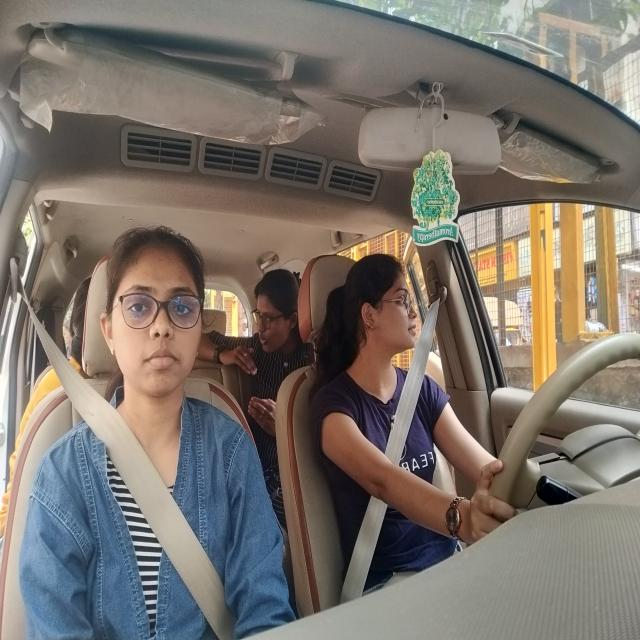LeftRight: (353, 247, 422, 369)
person: (105, 220, 212, 415), (252, 262, 302, 367)
